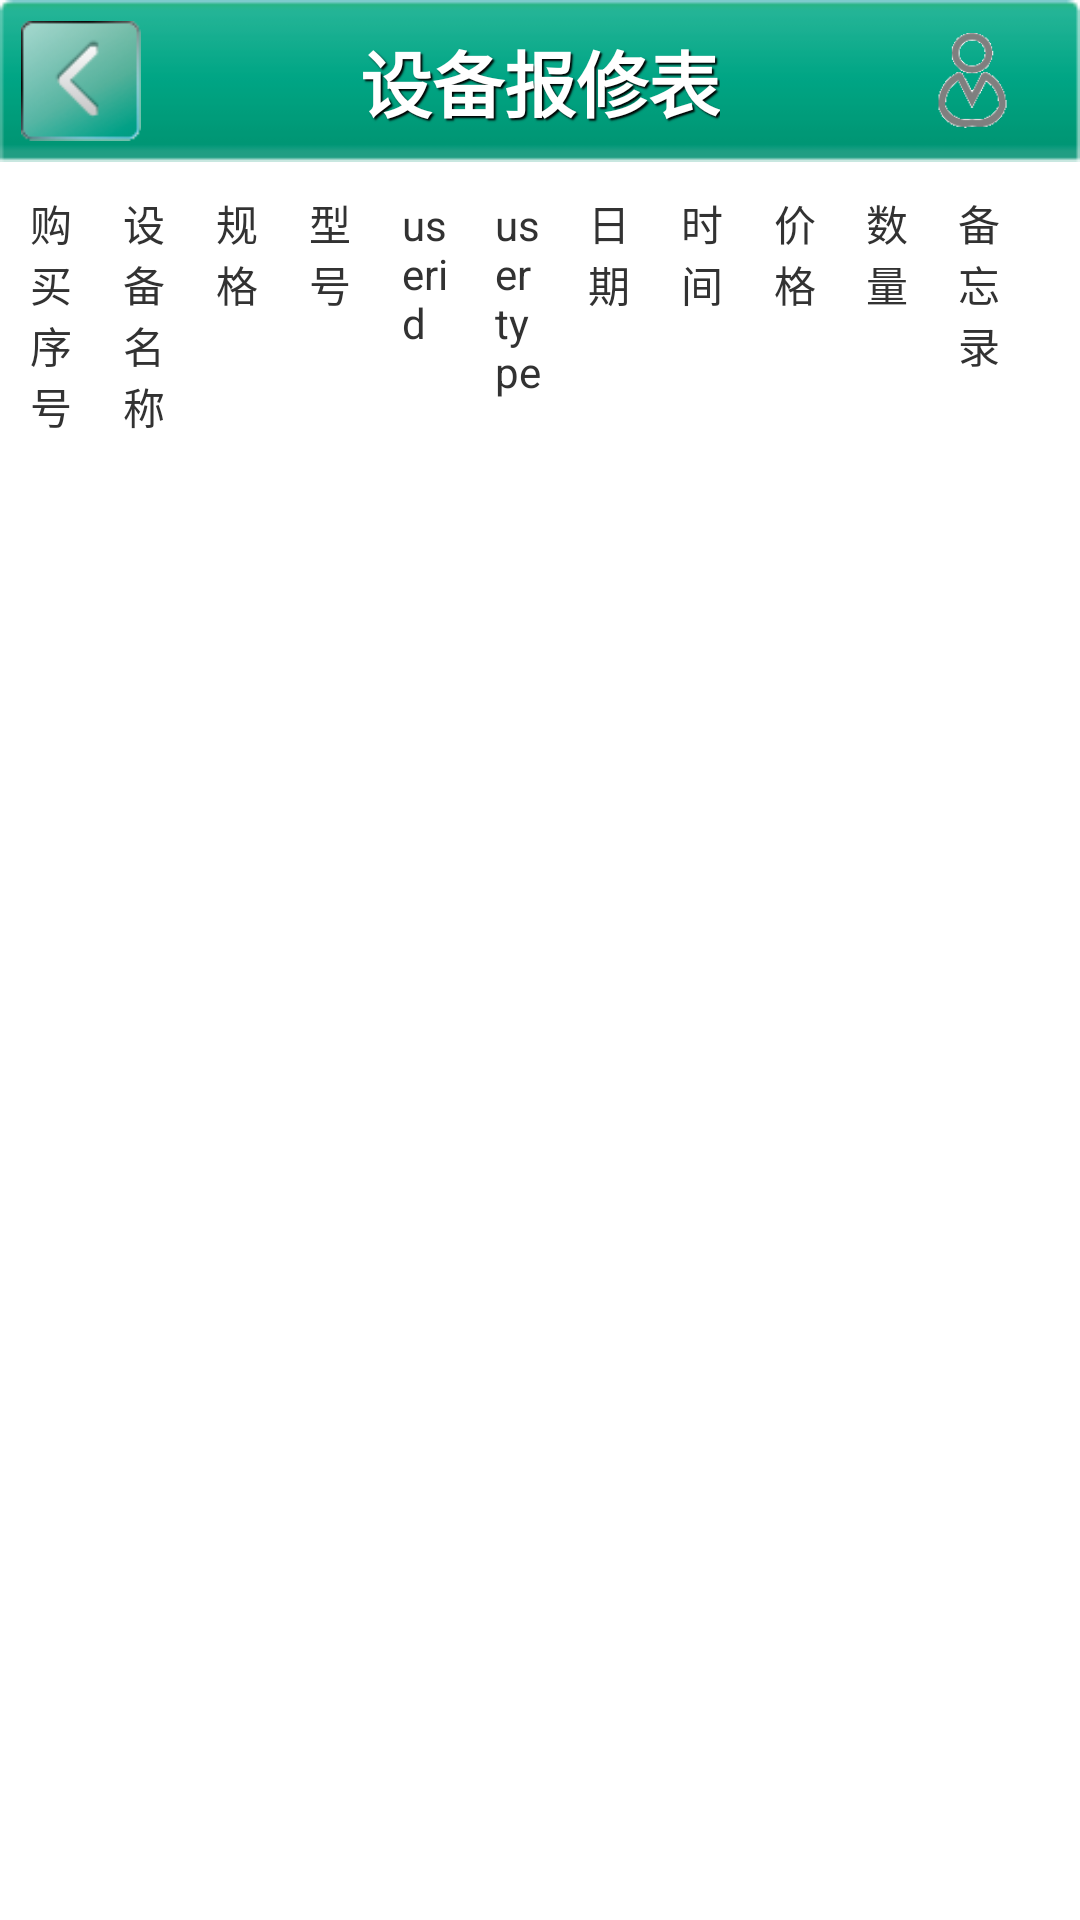

Icons on this 1080 × 1920 Android screen, each with its box as box=[x1, y1, x2, y2]:
back: box=[21, 21, 141, 141]
user: box=[924, 33, 1020, 128]
